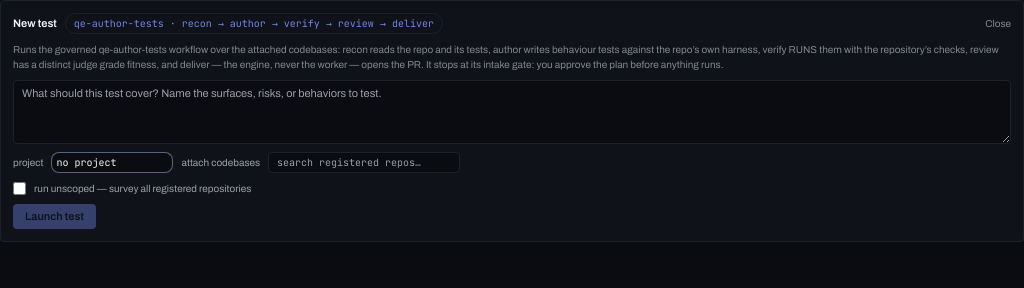
Test: the governed launch — the wire, the link, the waiting line (F-7R2-011) › /testing/author absent ⇒ the per-repo POST /runs fan carries `workflow`; /testing/recon is never sent one (0.36.0 declares no such key); the route line says so
The width and height of the screenshot is (1024, 288).
Expected: the text "qe-author-tests · recon → author → verify → review → deliver" is shown, x1=65 y1=13 x2=443 y2=34
Type "wicked-studio" into the field with test id "testing-launch-repo-search". click: (364, 162)
box: x1=268 y1=152 x2=460 y2=173
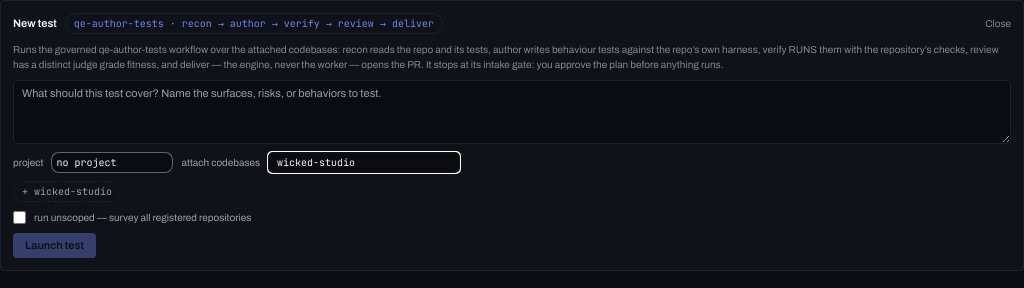
Click the button with test id "testing-launch-repo-option". click: (67, 192)
box: x1=13 y1=181 x2=121 y2=202
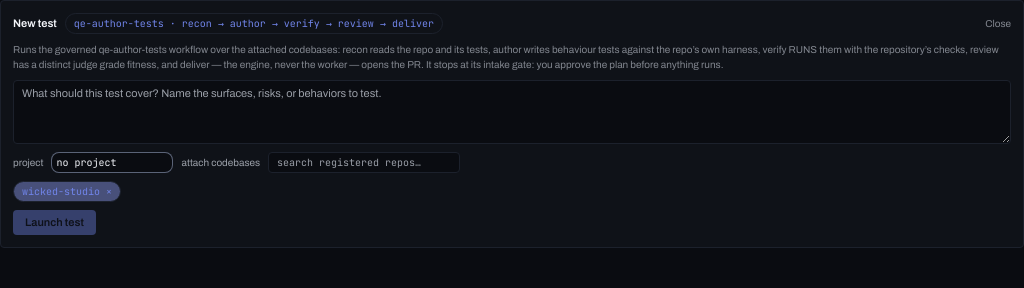
Type "B" into the text box with test id "testing-launch-instructions". click: (512, 112)
box: x1=13 y1=80 x2=1011 y2=144
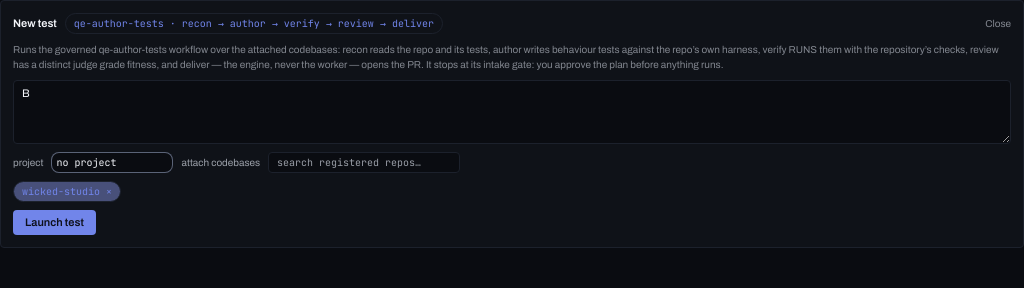
Click the button with test id "testing-launch-submit". click: (54, 222)
box: x1=13 y1=210 x2=96 y2=234
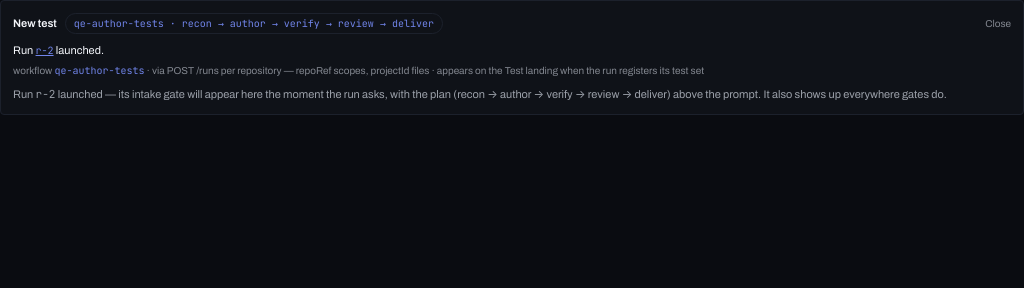
Result: the element with test id "testing-launch-waiting" is shown at x1=13 y1=86 x2=1011 y2=102
Result: the element with test id "testing-launch-route" shows "via POST /runs per repository" at x1=152 y1=64 x2=429 y2=76
